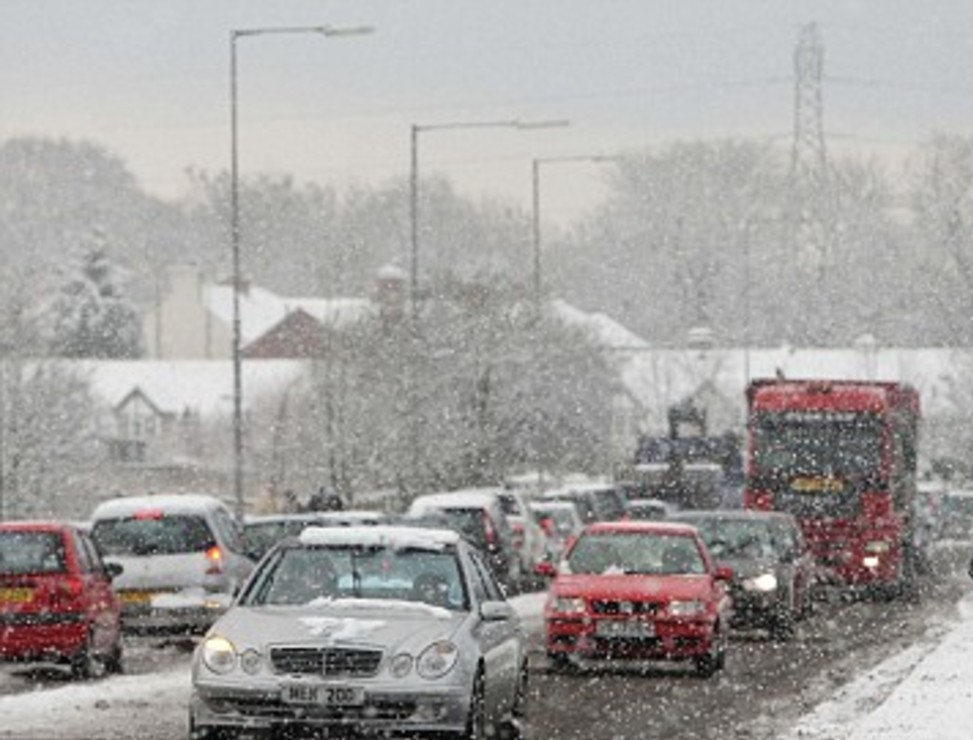car: (185, 519, 534, 739), (544, 523, 733, 675), (87, 498, 259, 635), (0, 521, 125, 684), (669, 509, 814, 635), (405, 489, 535, 586)
truck: (747, 370, 919, 599)
